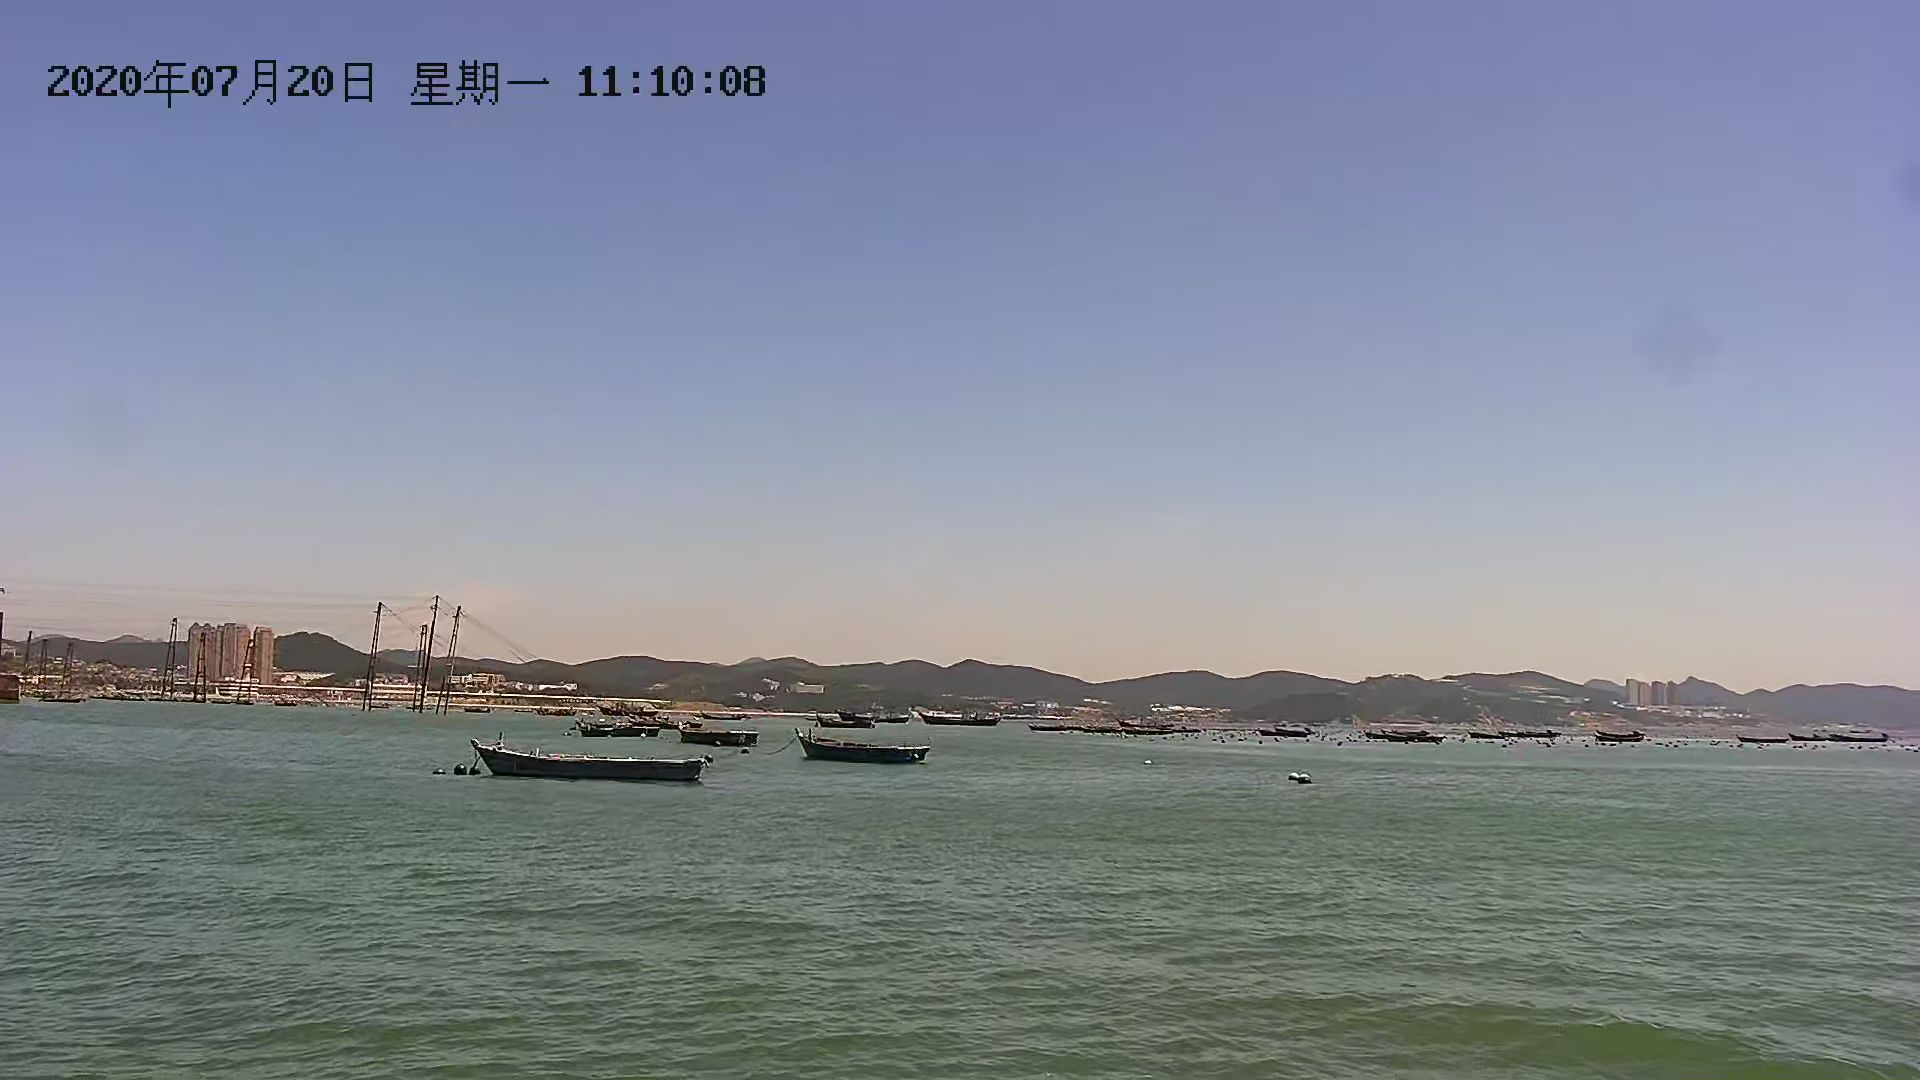ball: (1296, 769, 1327, 790)
boat: (462, 731, 723, 790), (791, 728, 936, 771), (582, 715, 671, 738), (914, 713, 1014, 735), (675, 720, 769, 742)
